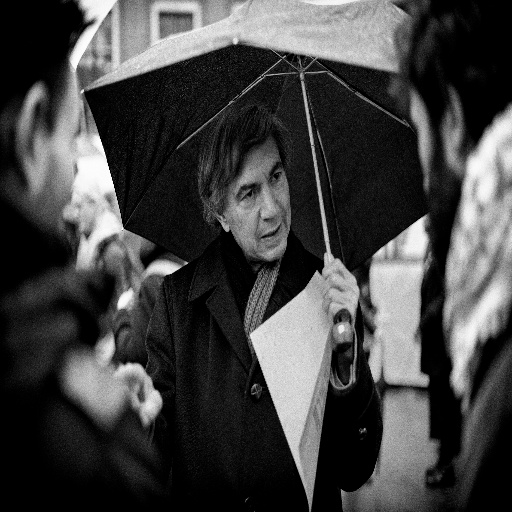hand: (305, 255, 362, 346), (111, 361, 165, 430), (116, 287, 135, 316)
